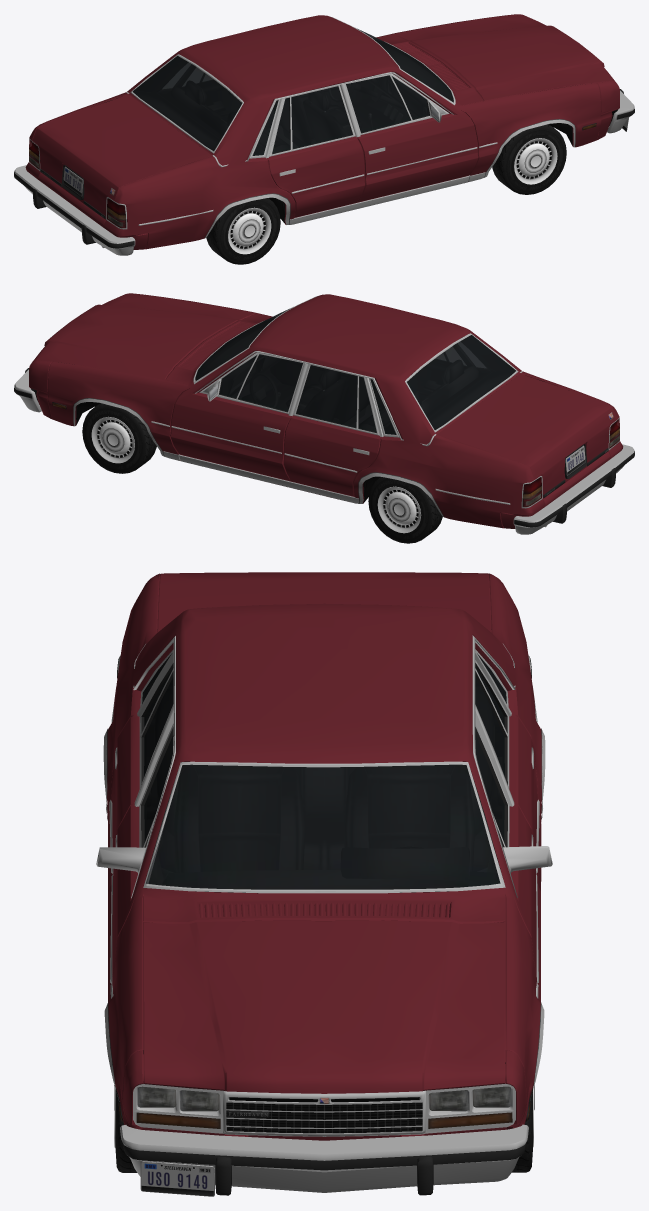
Rendered from fairheaven.glb.
3 views of the same model, one above another, from view 1: azimuth 30°, elevation 25°; view 2: azimuth 150°, elevation 25°; view 3: azimuth 270°, elevation 25° (orthographic). The views are drawn at different scales.
Visible parts, largest first — view 1: Fairheaven_LT80_body_Fairheaven_LT80_Bodymat_0, Fairheaven_LT80_trunk_door_Fairheaven_LT80_Bodymat_0, Fairheaven_LT80_Hood_Fairheaven_LT80_Bodymat_0, Fairheaven_LT80_Grand_Trim_UCB_BOTTOM_GT_0, Fairheaven_LT80_Interior_Trim_UCB_Interior_Trim_0, Fairheaven_LT80_Interior_UCB_Interior_Trim_0, Fairheaven_LT80_Glass_Rear_UCB_Lights_and_Glass_Transperent_, Fairheaven_LT80_Glass_Body_UCB_Lights_and_Glass_Transperent_, Fairheaven_LT80_WheelHubcaps_FR_RB1c_Tire_1k_0, Fairheaven_LT80_WheelHubcaps_RL_RB1c_Tire_1k_0, Fairheaven_LT80_Glass_Passanger001_UCB_Lights_and_Glass_Tran, Fairheaven_LT80_bumper_rear_UCB_BOTTOM_GT_0 (+8 smaller); view 2: Fairheaven_LT80_body_Fairheaven_LT80_Bodymat_0, Fairheaven_LT80_trunk_door_Fairheaven_LT80_Bodymat_0, Fairheaven_LT80_Hood_Fairheaven_LT80_Bodymat_0, Fairheaven_LT80_Grand_Trim_UCB_BOTTOM_GT_0, Fairheaven_LT80_Interior_Trim_UCB_Interior_Trim_0, Fairheaven_LT80_Interior_UCB_Interior_Trim_0, Fairheaven_LT80_Glass_Rear_UCB_Lights_and_Glass_Transperent_, Fairheaven_LT80_Glass_Body_UCB_Lights_and_Glass_Transperent_, Fairheaven_LT80_WheelHubcaps_FL_RB1c_Tire_1k_0, Fairheaven_LT80_WheelHubcaps_RR_RB1c_Tire_1k_0, Fairheaven_LT80_Glass_Driver001_UCB_Lights_and_Glass_Transpe, Fairheaven_LT80_bumper_rear_UCB_BOTTOM_GT_0 (+9 smaller); view 3: Fairheaven_LT80_body_Fairheaven_LT80_Bodymat_0, Fairheaven_LT80_Hood_Fairheaven_LT80_Bodymat_0, Fairheaven_LT80_Interior_Trim_UCB_Interior_Trim_0, Fairheaven_LT80_Windshield_UCB_Lights_and_Glass_Transperent_, Fairheaven_LT80_Bumper_Front_UCB_BOTTOM_GT_0, Fairheaven_LT80_Grand_Trim_UCB_BOTTOM_GT_0, Fairheaven_LT80_Front_Plate_Inner_UCB_BOTTOM_GT_0, Fairheaven_LT80_trunk_door_Fairheaven_LT80_Bodymat_0, Fairheaven_LT80_Headlights_Glass_UCB_Lights_and_Glass_Transp, Fairheaven_LT80_Front_Plate_Fairheaven_LT80_Bodymat_0, Fairheaven_LT80_Headlights_UCB_Lights_and_Glass_0, Fairheaven_LT80_Glass_Body_UCB_Lights_and_Glass_Transperent_ (+4 smaller).
Part boxes in pixels (left/top/right/bottom): Fairheaven_LT80_body_Fairheaven_LT80_Bodymat_0: left=25, top=15, right=601, bottom=249; Fairheaven_LT80_trunk_door_Fairheaven_LT80_Bodymat_0: left=32, top=94, right=211, bottom=219; Fairheaven_LT80_Hood_Fairheaven_LT80_Bodymat_0: left=394, top=14, right=615, bottom=100; Fairheaven_LT80_Grand_Trim_UCB_BOTTOM_GT_0: left=29, top=16, right=575, bottom=238; Fairheaven_LT80_Interior_Trim_UCB_Interior_Trim_0: left=170, top=44, right=453, bottom=155; Fairheaven_LT80_Interior_UCB_Interior_Trim_0: left=40, top=39, right=451, bottom=202; Fairheaven_LT80_Glass_Rear_UCB_Lights_and_Glass_Transperent_: left=132, top=56, right=242, bottom=151; Fairheaven_LT80_Glass_Body_UCB_Lights_and_Glass_Transperent_: left=163, top=63, right=352, bottom=155; Fairheaven_LT80_WheelHubcaps_FR_RB1c_Tire_1k_0: left=492, top=124, right=566, bottom=194; Fairheaven_LT80_WheelHubcaps_RL_RB1c_Tire_1k_0: left=206, top=198, right=280, bottom=264; Fairheaven_LT80_Glass_Passanger001_UCB_Lights_and_Glass_Tran: left=346, top=75, right=429, bottom=132; Fairheaven_LT80_bumper_rear_UCB_BOTTOM_GT_0: left=14, top=165, right=135, bottom=255; Fairheaven_LT80_body_Fairheaven_LT80_Bodymat_0: left=47, top=294, right=623, bottom=528; Fairheaven_LT80_trunk_door_Fairheaven_LT80_Bodymat_0: left=437, top=373, right=616, bottom=498; Fairheaven_LT80_Hood_Fairheaven_LT80_Bodymat_0: left=33, top=294, right=255, bottom=379; Fairheaven_LT80_Grand_Trim_UCB_BOTTOM_GT_0: left=73, top=296, right=619, bottom=517; Fairheaven_LT80_Interior_Trim_UCB_Interior_Trim_0: left=195, top=326, right=478, bottom=434; Fairheaven_LT80_Interior_UCB_Interior_Trim_0: left=197, top=319, right=544, bottom=483; Fairheaven_LT80_Glass_Rear_UCB_Lights_and_Glass_Transperent_: left=407, top=335, right=516, bottom=429; Fairheaven_LT80_Glass_Body_UCB_Lights_and_Glass_Transperent_: left=296, top=340, right=485, bottom=434; Fairheaven_LT80_WheelHubcaps_FL_RB1c_Tire_1k_0: left=82, top=403, right=156, bottom=473; Fairheaven_LT80_WheelHubcaps_RR_RB1c_Tire_1k_0: left=368, top=477, right=442, bottom=543; Fairheaven_LT80_Glass_Driver001_UCB_Lights_and_Glass_Transpe: left=219, top=354, right=302, bottom=411; Fairheaven_LT80_bumper_rear_UCB_BOTTOM_GT_0: left=513, top=444, right=634, bottom=534; Fairheaven_LT80_body_Fairheaven_LT80_Bodymat_0: left=107, top=573, right=541, bottom=1115; Fairheaven_LT80_Hood_Fairheaven_LT80_Bodymat_0: left=143, top=920, right=505, bottom=1093; Fairheaven_LT80_Interior_Trim_UCB_Interior_Trim_0: left=144, top=687, right=502, bottom=893; Fairheaven_LT80_Windshield_UCB_Lights_and_Glass_Transperent_: left=146, top=764, right=500, bottom=889; Fairheaven_LT80_Bumper_Front_UCB_BOTTOM_GT_0: left=120, top=1124, right=528, bottom=1195; Fairheaven_LT80_Grand_Trim_UCB_BOTTOM_GT_0: left=96, top=635, right=552, bottom=1101; Fairheaven_LT80_Front_Plate_Inner_UCB_BOTTOM_GT_0: left=133, top=1050, right=515, bottom=1136; Fairheaven_LT80_trunk_door_Fairheaven_LT80_Bodymat_0: left=157, top=572, right=491, bottom=632; Fairheaven_LT80_Headlights_Glass_UCB_Lights_and_Glass_Transp: left=136, top=1086, right=512, bottom=1128; Fairheaven_LT80_Front_Plate_Fairheaven_LT80_Bodymat_0: left=122, top=1050, right=526, bottom=1140; Fairheaven_LT80_Headlights_UCB_Lights_and_Glass_0: left=138, top=1087, right=510, bottom=1110; Fairheaven_LT80_Glass_Body_UCB_Lights_and_Glass_Transperent_: left=142, top=653, right=506, bottom=776.
Size of the model in its own units: 5 by 1.35 by 1.83.
8 materials, 7 textured.
